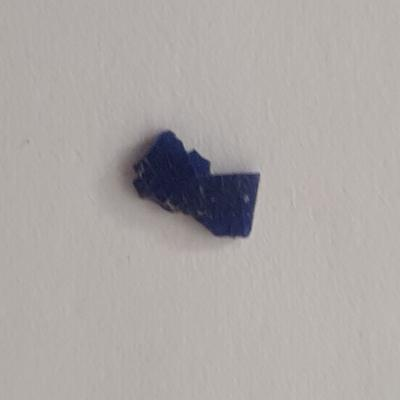plastic: (129, 128, 263, 243)
